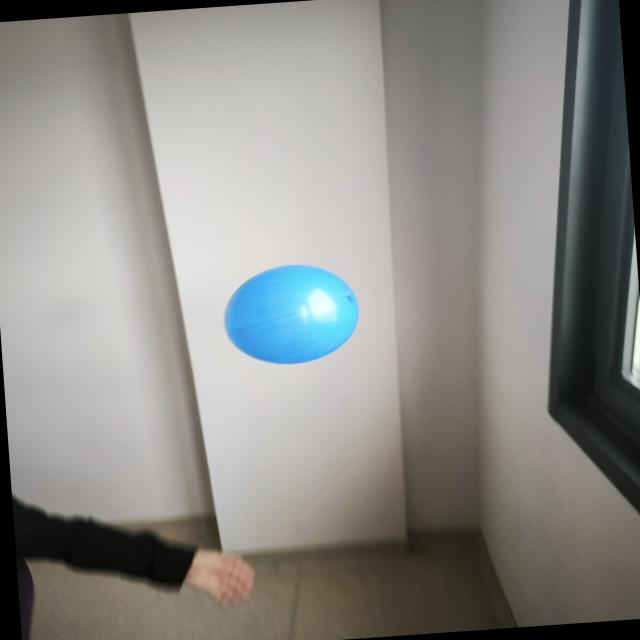balloon: (225, 264, 359, 363)
